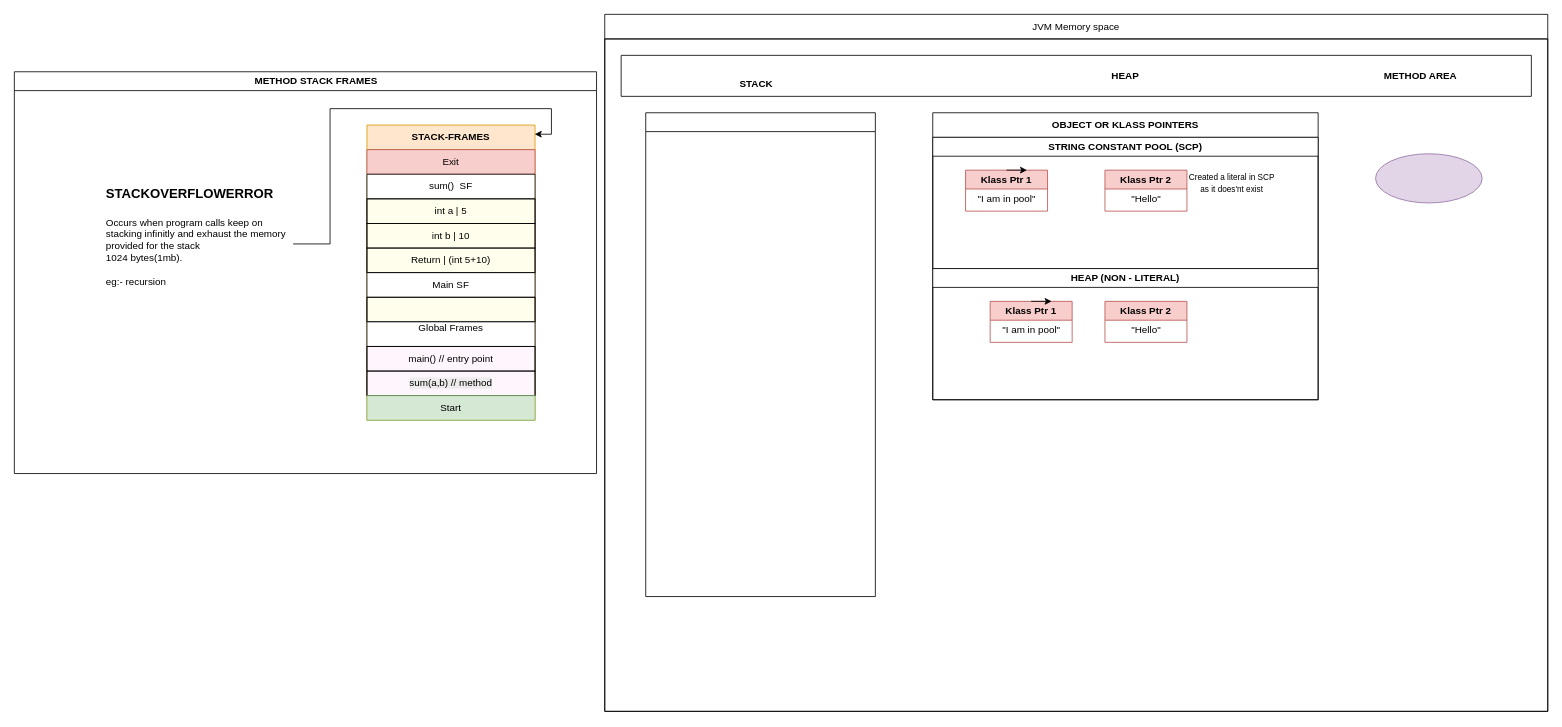
This 1562x727 diagram has some shape labels left out. The shapes that lost their labels are listed below. From the top down, each one's centre as x and y in pixels, then its label:
At (1428,178): "load Addition class metadata".
At (450,309): "String[] args int result = sum(5,10)".
At (760,354): "Object References".
